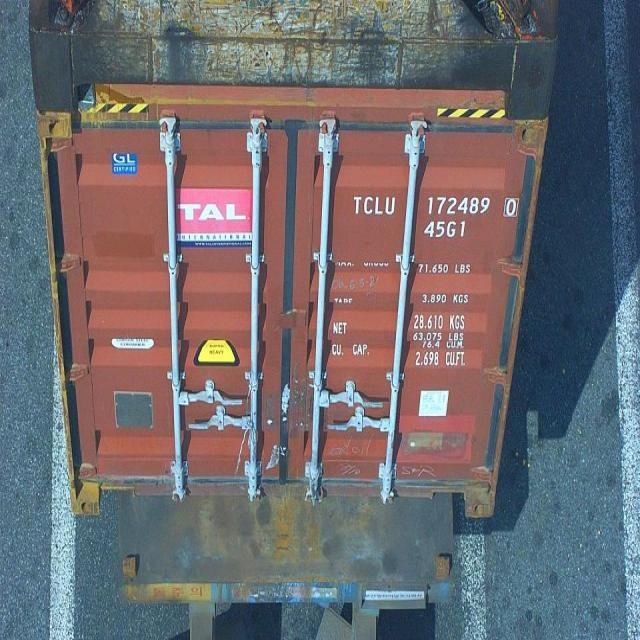ISO: (422, 218, 469, 240)
container_number: (356, 192, 514, 218)
